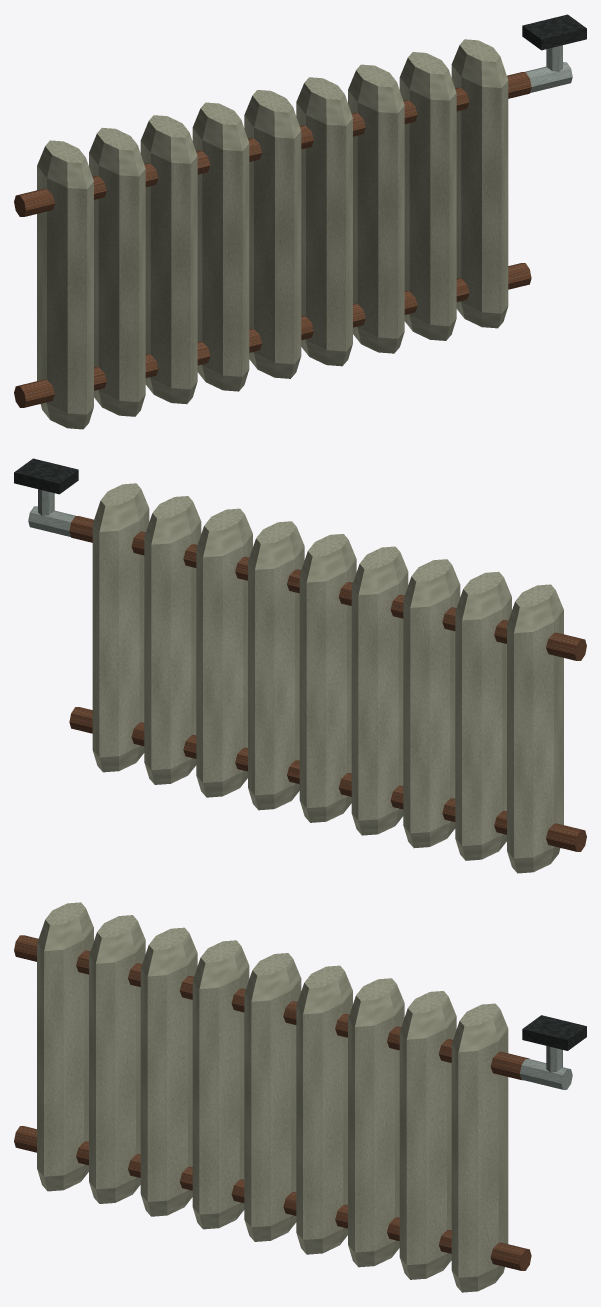
Rendered from Radiator.glb.
3 views of the same model, one above another, from view 1: azimuth 30°, elevation 25°; view 2: azimuth 150°, elevation 25°; view 3: azimuth 330°, elevation 25° (orthographic).
Visible parts, largest first — view 1: Radiator; view 2: Radiator; view 3: Radiator.
Part boxes in pixels (x1,y1,x2,y2): Radiator: (14, 14, 586, 429); Radiator: (14, 458, 586, 873); Radiator: (14, 902, 586, 1292).
Bounding box in the file's own units: 1.35 × 0.6225 × 0.18.
Materials: 4 (4 with a texture image).
